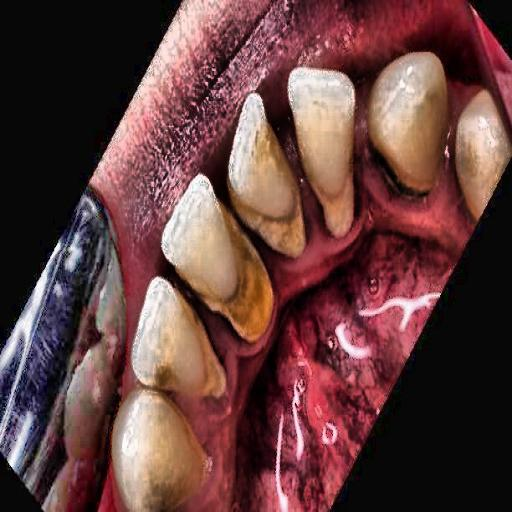Calculus: (199, 128, 314, 354), (292, 130, 366, 260)
